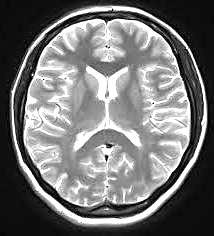Normal_Brain: (8, 10, 214, 236)
